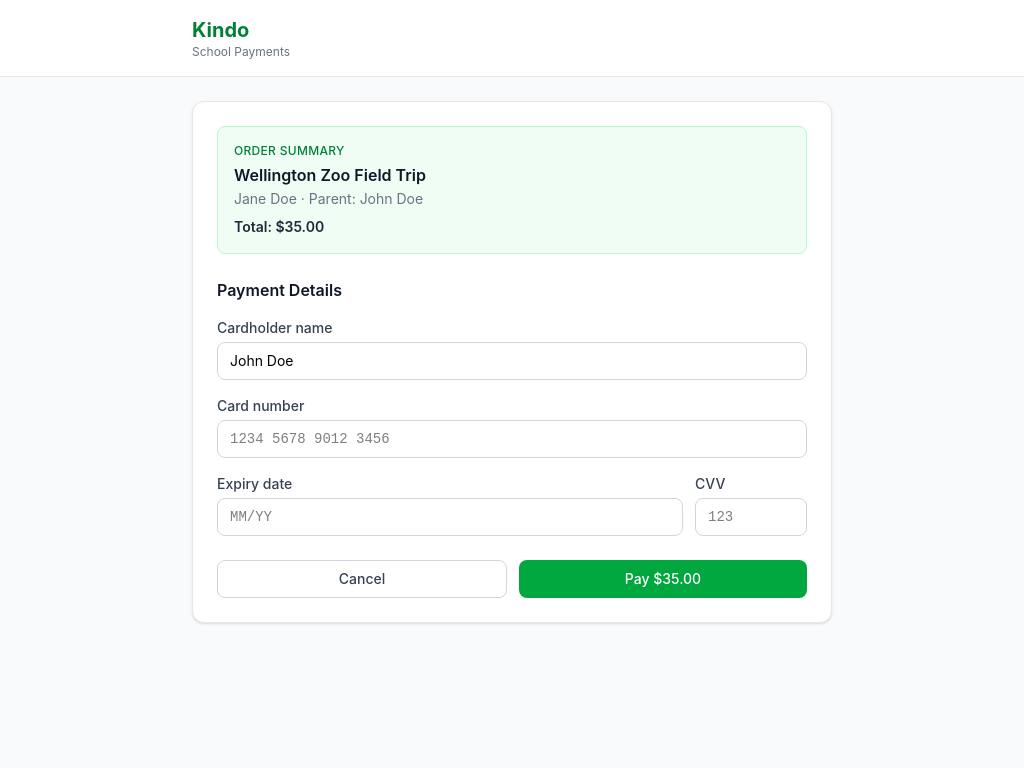
Test: PaymentForm › formats the card number in groups of 4 as user types
Type "4111111111111111" into the field labelled "Card number".
click(512, 439); type("4111111111111111")  # box [217,420,807,458]
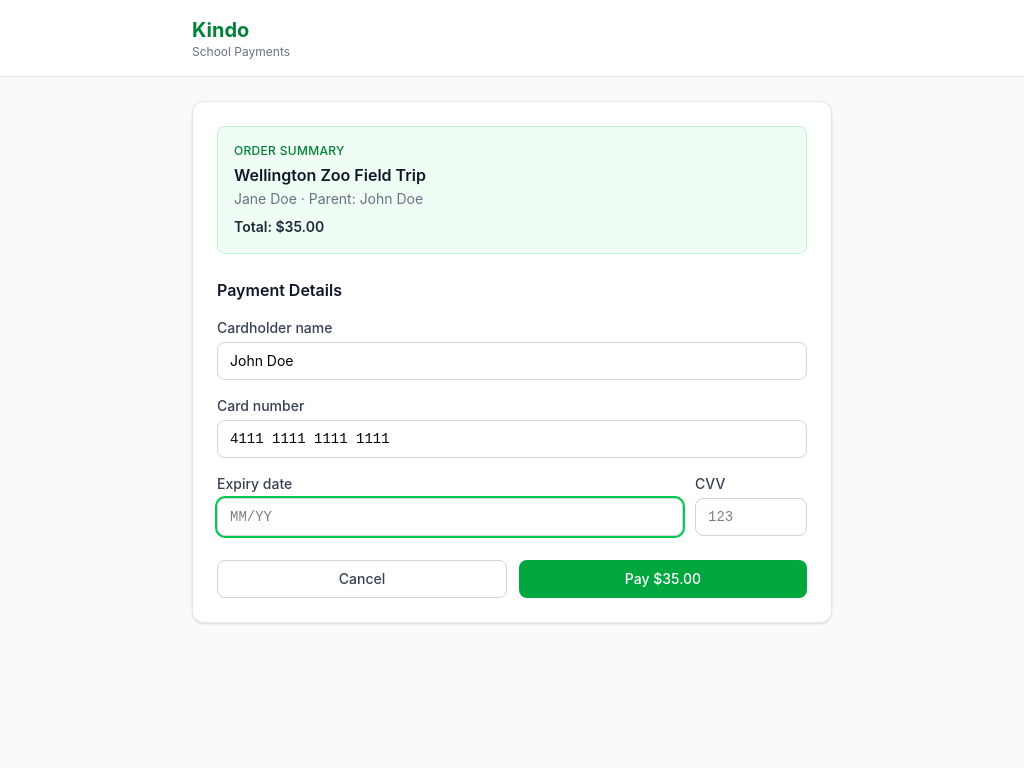
Expected: the field labelled "Card number" holds "4111 1111 1111 1111", [217,420,807,458]
